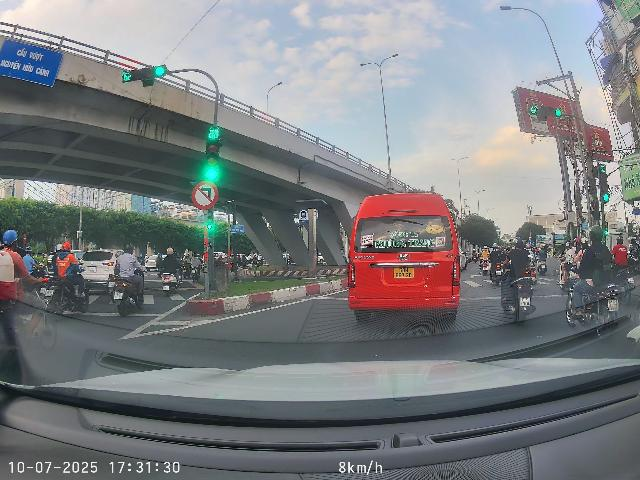123a-cam-re-trai: (192, 180, 219, 210)
